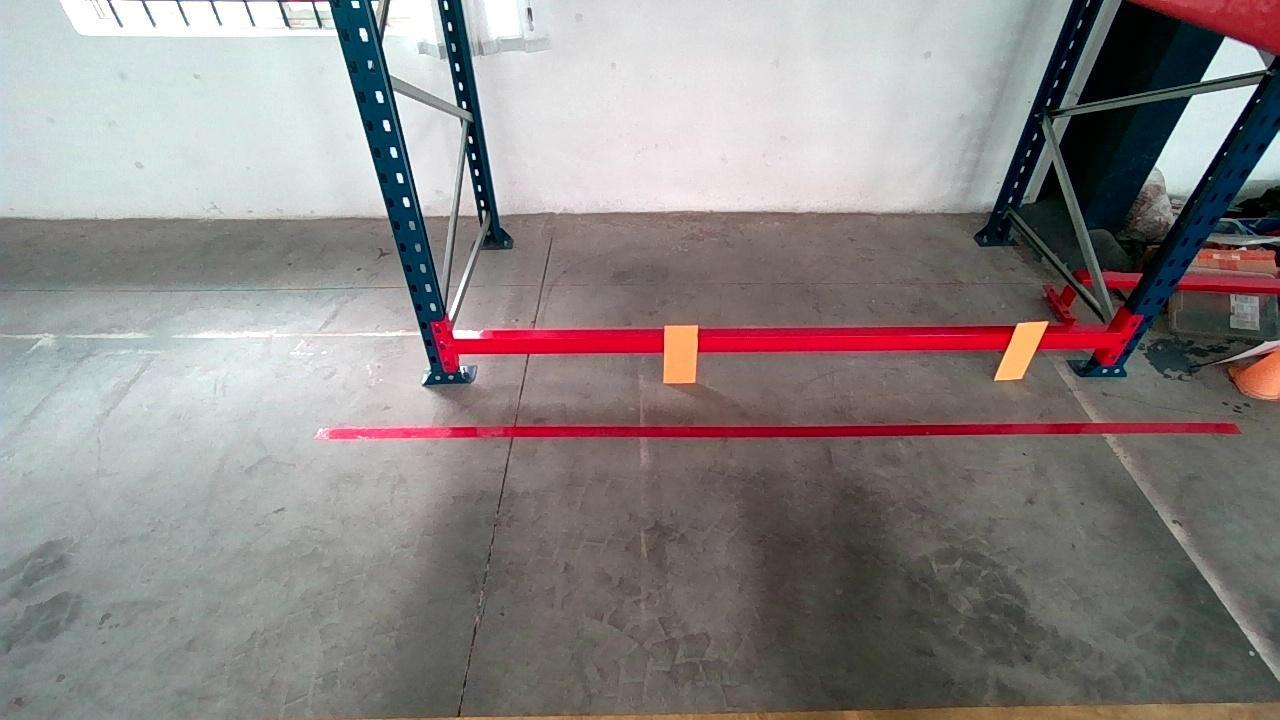h_rack: (452, 324, 1111, 354)
orange_strip: (994, 321, 1051, 380), (664, 323, 698, 382)
red_line: (332, 414, 1229, 446)
